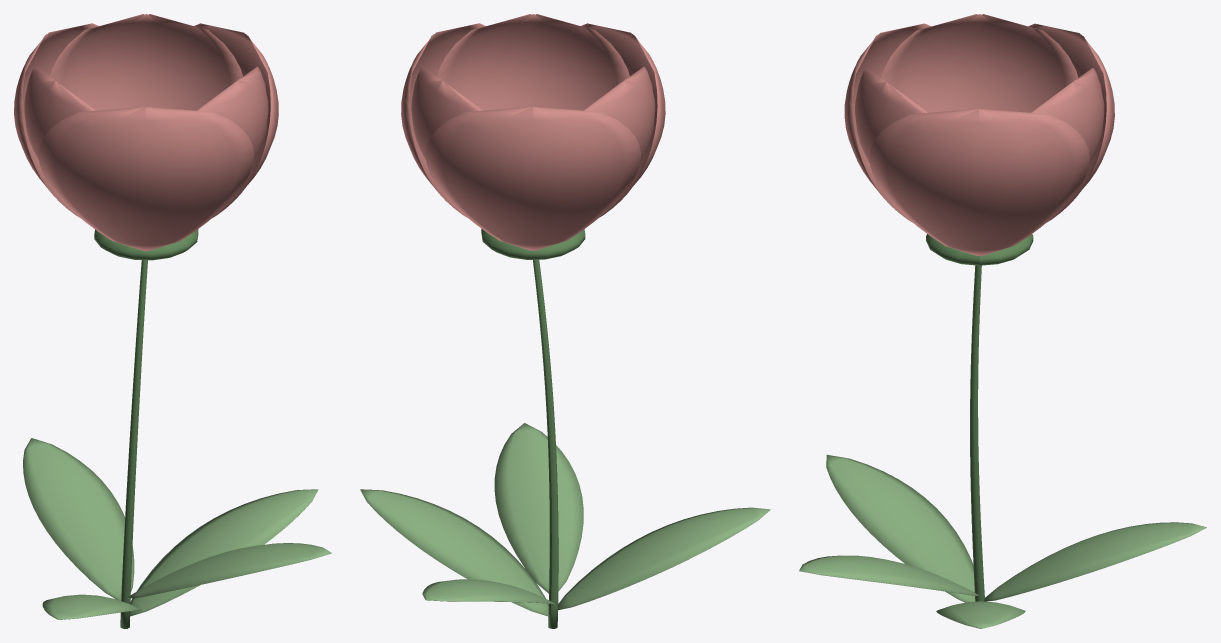
The model's file is tulip-common-v2.glb.
3 renders of one model, left to right at view 1: azimuth 30°, elevation 25°; view 2: azimuth 150°, elevation 25°; view 3: azimuth 270°, elevation 25°, orthographic. The views are drawn at different scales.
Parts seen in each view (by area): view 1: tulip-common-v2-petal, tulip-common-v2-leaf, tulip-common-v2-stem; view 2: tulip-common-v2-petal, tulip-common-v2-leaf, tulip-common-v2-stem; view 3: tulip-common-v2-petal, tulip-common-v2-leaf, tulip-common-v2-stem.
Part boxes in pixels (left/top/right/bottom): tulip-common-v2-petal: left=14, top=14, right=278, bottom=251; tulip-common-v2-leaf: left=23, top=438, right=331, bottom=619; tulip-common-v2-stem: left=94, top=229, right=198, bottom=628; tulip-common-v2-petal: left=401, top=14, right=665, bottom=250; tulip-common-v2-leaf: left=360, top=423, right=770, bottom=616; tulip-common-v2-stem: left=481, top=229, right=585, bottom=628; tulip-common-v2-petal: left=844, top=14, right=1114, bottom=255; tulip-common-v2-leaf: left=799, top=454, right=1206, bottom=628; tulip-common-v2-stem: left=926, top=234, right=1033, bottom=601.
Size of the model in its own units: 1.33 by 2.14 by 1.37.
